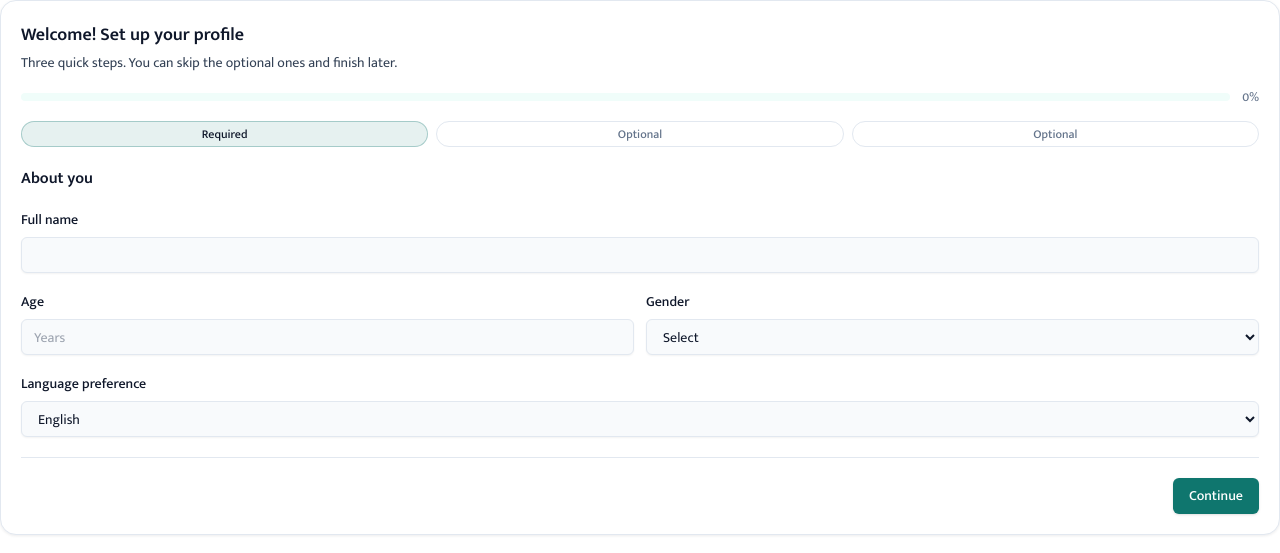
ProfileCompletionWizard › asks language explicitly in step 1 and flips the whole wizard to it (D1)
Select "हिंदी" in the dropdown with test id "pc-lang" at (640, 419), box [21,401,1259,437]
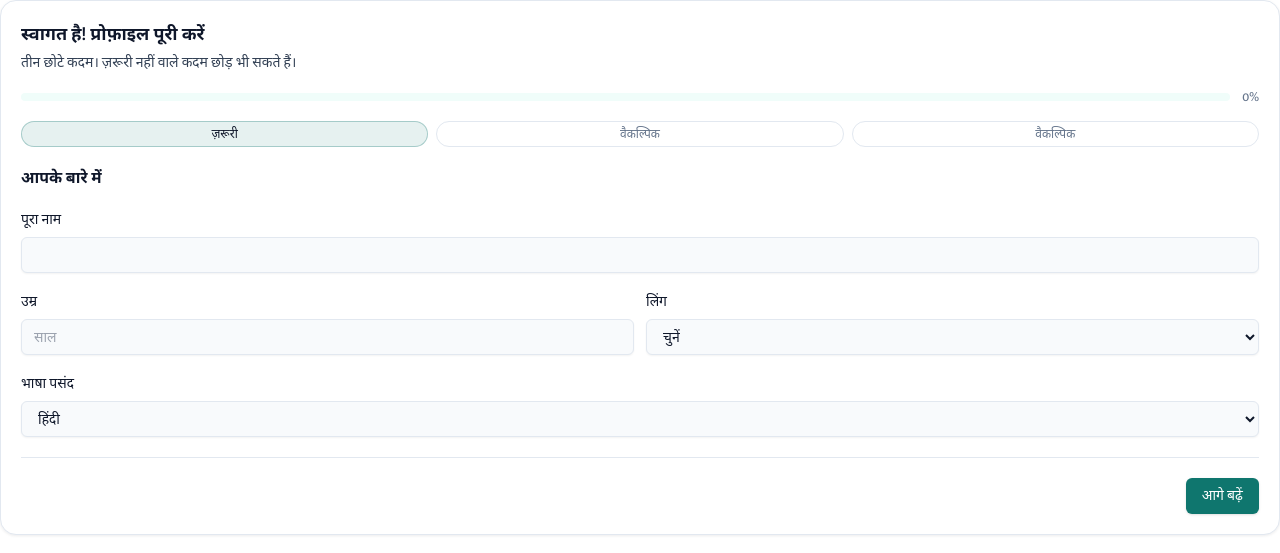
Now the heading "आपके बारे में" is shown, box [21,165,102,192]
Now the heading "स्वागत है! प्रोफ़ाइल पूरी करें" is shown, box [21,21,204,49]
